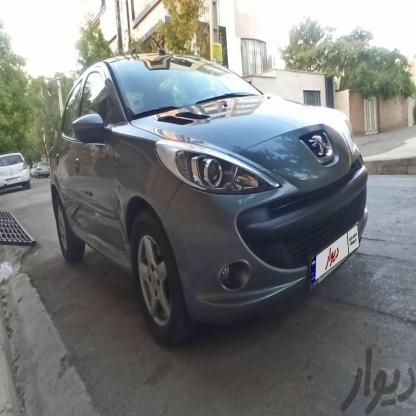Car: (48, 57, 378, 340), (0, 144, 34, 194), (30, 158, 52, 182)
